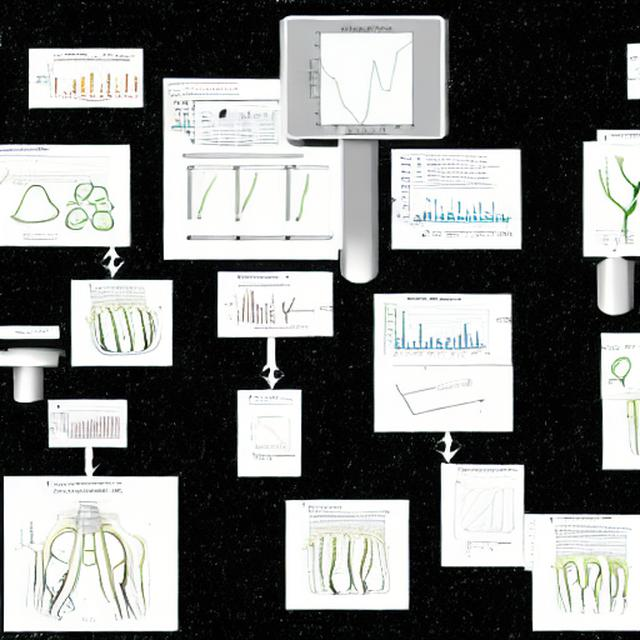Graph: (288, 21, 441, 136), (381, 298, 487, 361), (30, 58, 141, 105), (59, 409, 121, 443), (243, 412, 298, 450)
